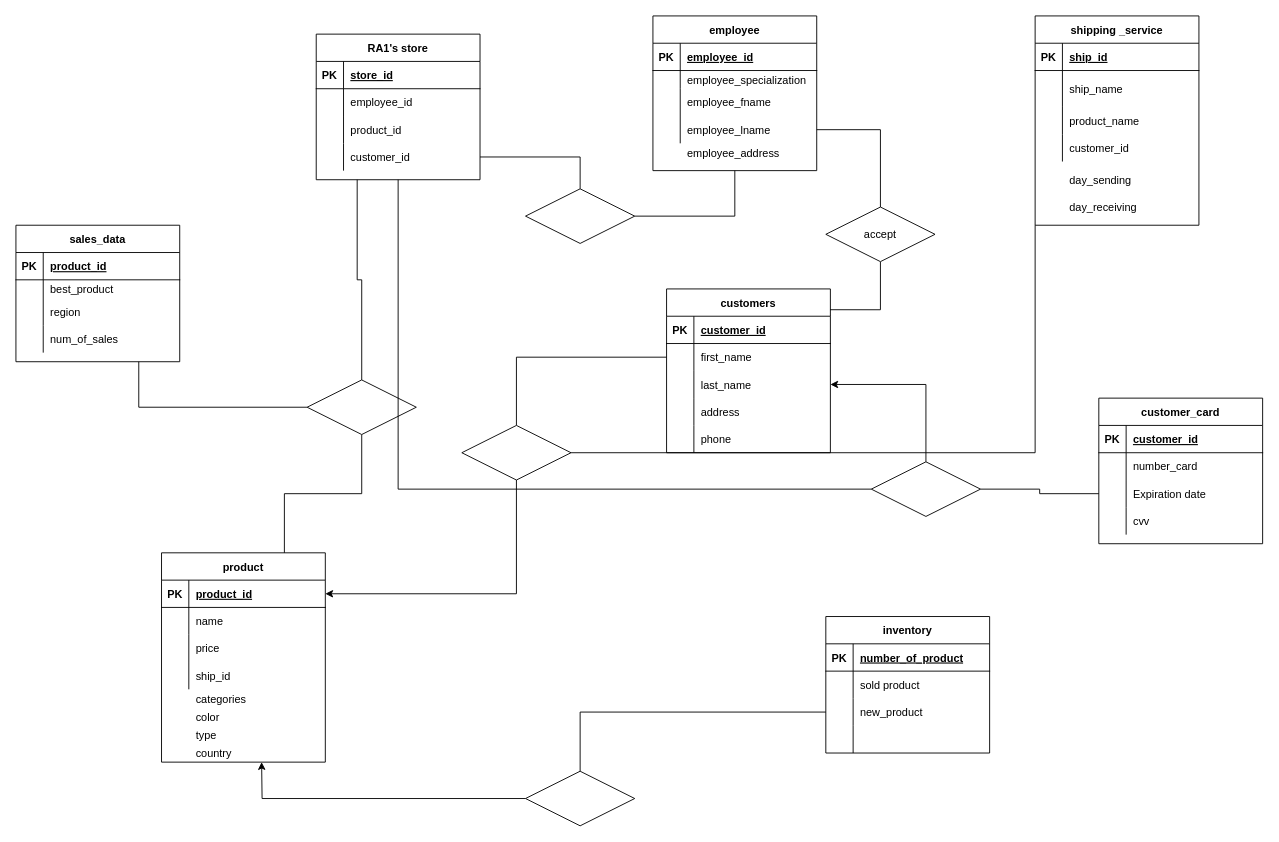
The diagram is 1279 pixels wide and 842 high, and some of its shapes have lost their labels. The centre of each missing label's shape, as x and y in pixels:
contract: [925,488]
delivery: [516,452]
sale: [361,407]
stored: [580,798]
worked: [580,215]
